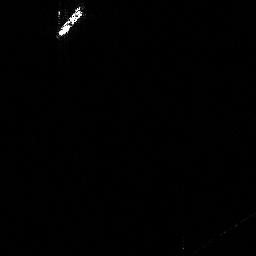ship: (54, 3, 87, 39)
